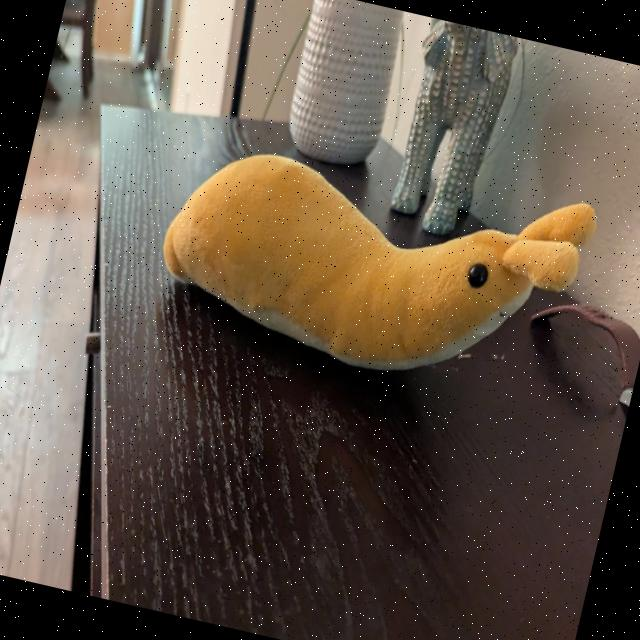banana-slug-toy: (138, 109, 606, 418)
